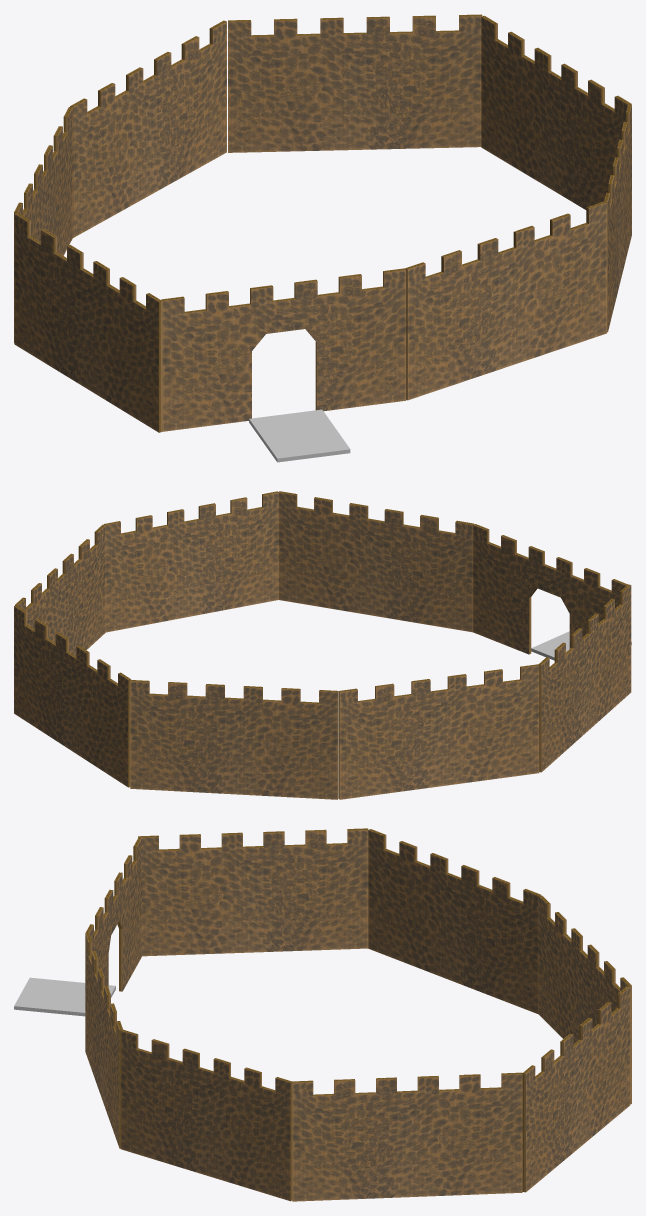
File: Burg.fbx
3 renders of one model, top to bottom at view 1: azimuth 30°, elevation 25°; view 2: azimuth 150°, elevation 25°; view 3: azimuth 270°, elevation 25°, orthographic. The views are drawn at different scales.
Visible parts, largest first — view 1: Burg, BurgTor; view 2: Burg, BurgTor; view 3: Burg, BurgTor.
Part boxes in pixels (x1,y1,x2,y2): Burg: (14, 14, 631, 432); BurgTor: (249, 409, 350, 462); Burg: (14, 491, 631, 799); BurgTor: (531, 631, 631, 660); Burg: (85, 828, 631, 1201); BurgTor: (14, 977, 115, 1016).
Size of the model in its own units: 2799 by 2870 by 609.
